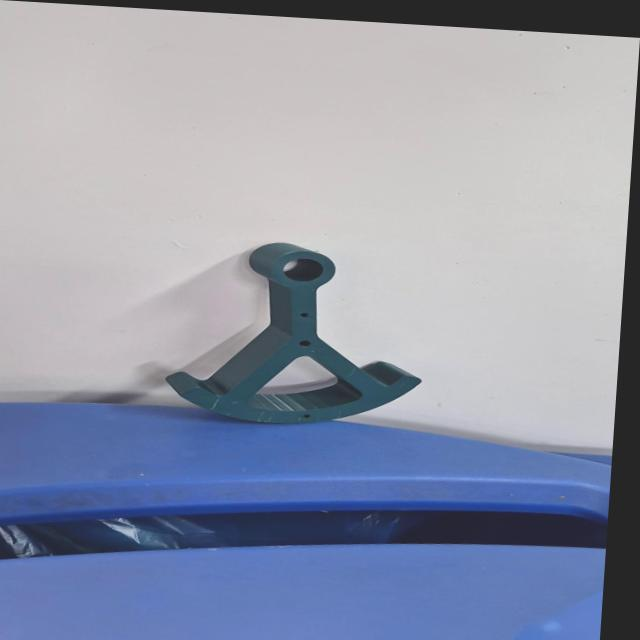haptic: (161, 236, 432, 433)
